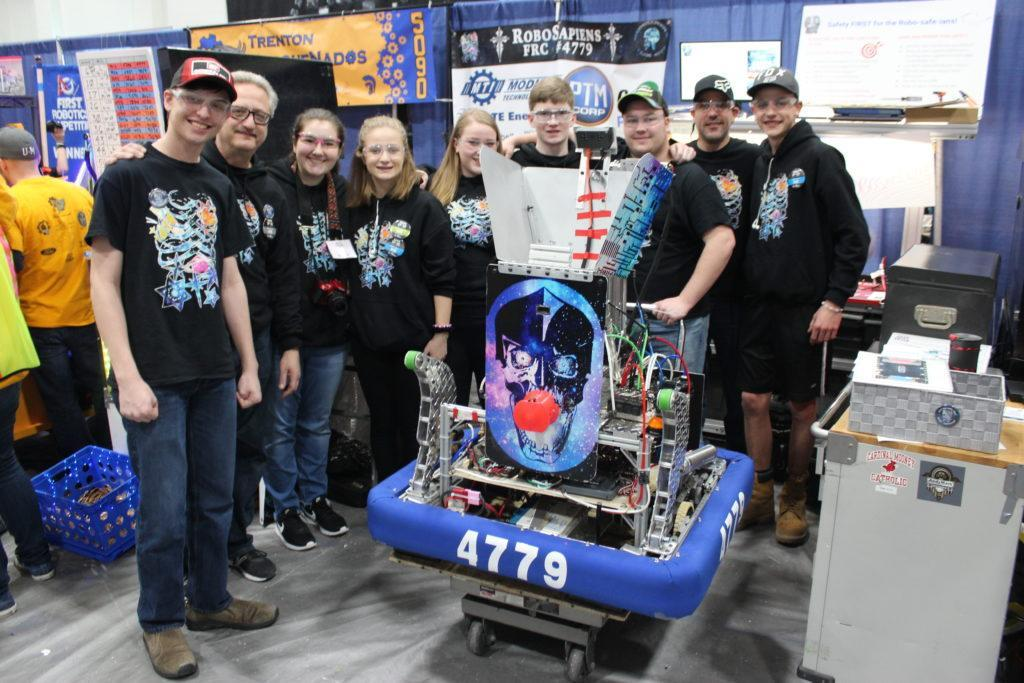robot: (359, 138, 760, 628)
